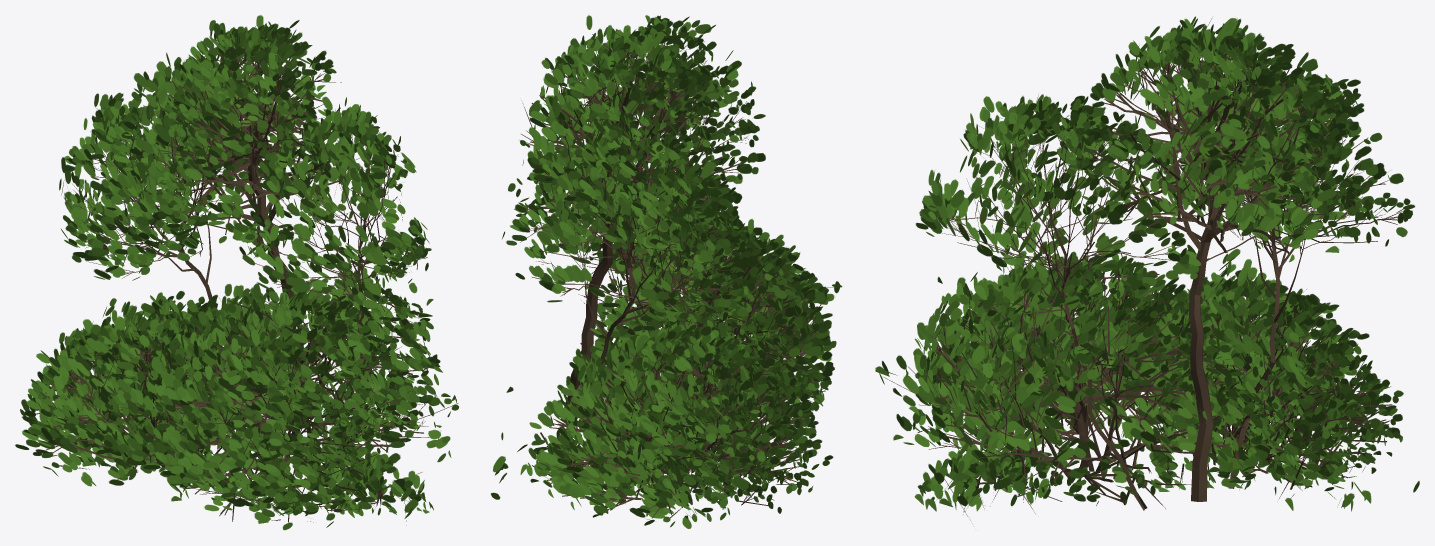
The picture shows the model from 3 angles, left to right: view 1: azimuth 30°, elevation 25°; view 2: azimuth 150°, elevation 25°; view 3: azimuth 270°, elevation 25°; orthographic projection. The views are drawn at different scales.
Parts seen in each view (by area): view 1: oak 01.001_trunk_Mat.001_0.404; view 2: oak 01.001_trunk_Mat.001_0.404; view 3: oak 01.001_trunk_Mat.001_0.404.
Part boxes in pixels (box(x1,y1,x2,y2)): oak 01.001_trunk_Mat.001_0.404: box(15, 15, 458, 530); oak 01.001_trunk_Mat.001_0.404: box(491, 15, 842, 528); oak 01.001_trunk_Mat.001_0.404: box(875, 16, 1419, 520).
Size of the model in its own units: 3.01 by 4.22 by 4.31.
Materials: 2 (1 with a texture image).
